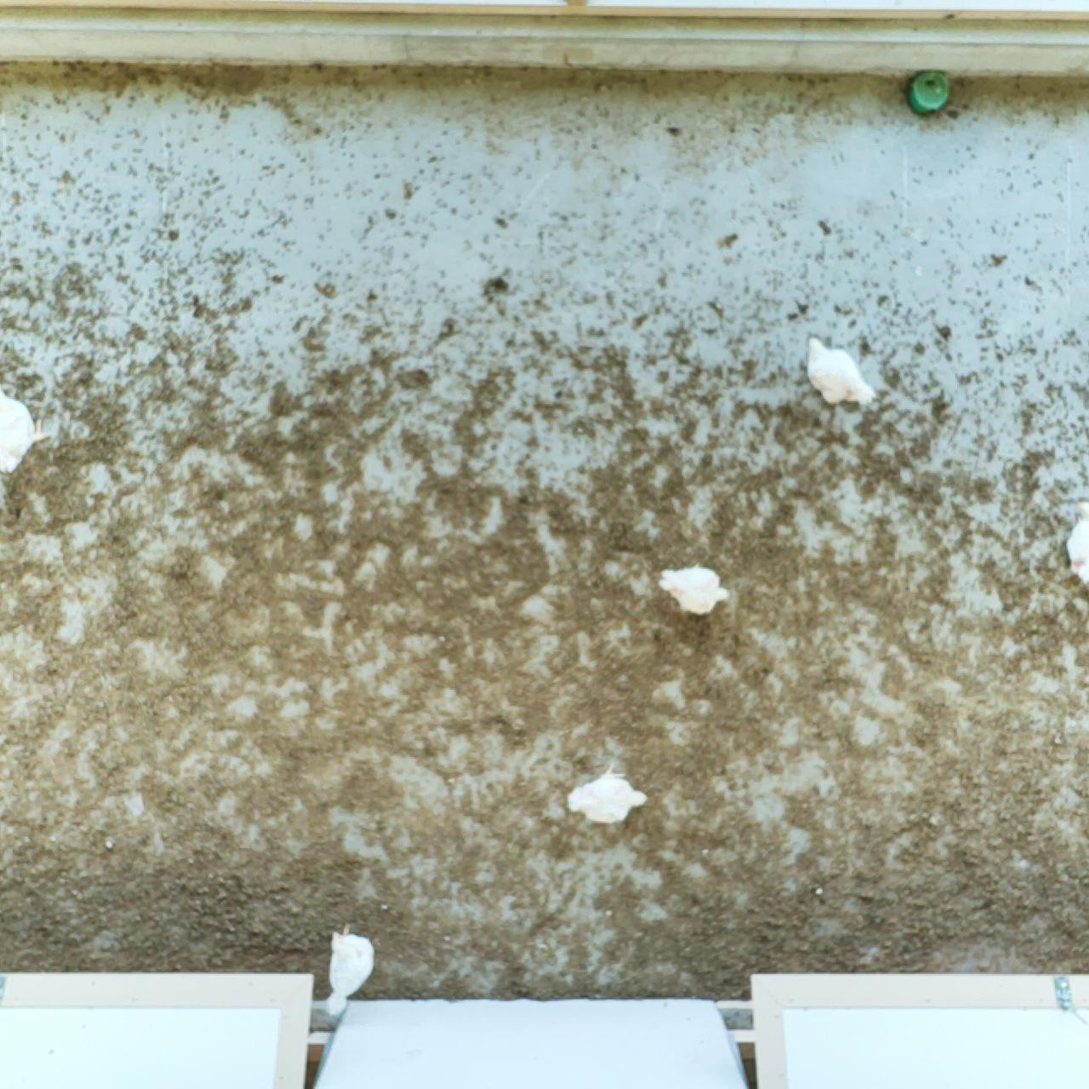chicken: (800, 329, 880, 414), (317, 918, 383, 1021), (566, 756, 649, 830), (0, 381, 52, 479), (658, 558, 735, 620), (1055, 493, 1089, 590)
